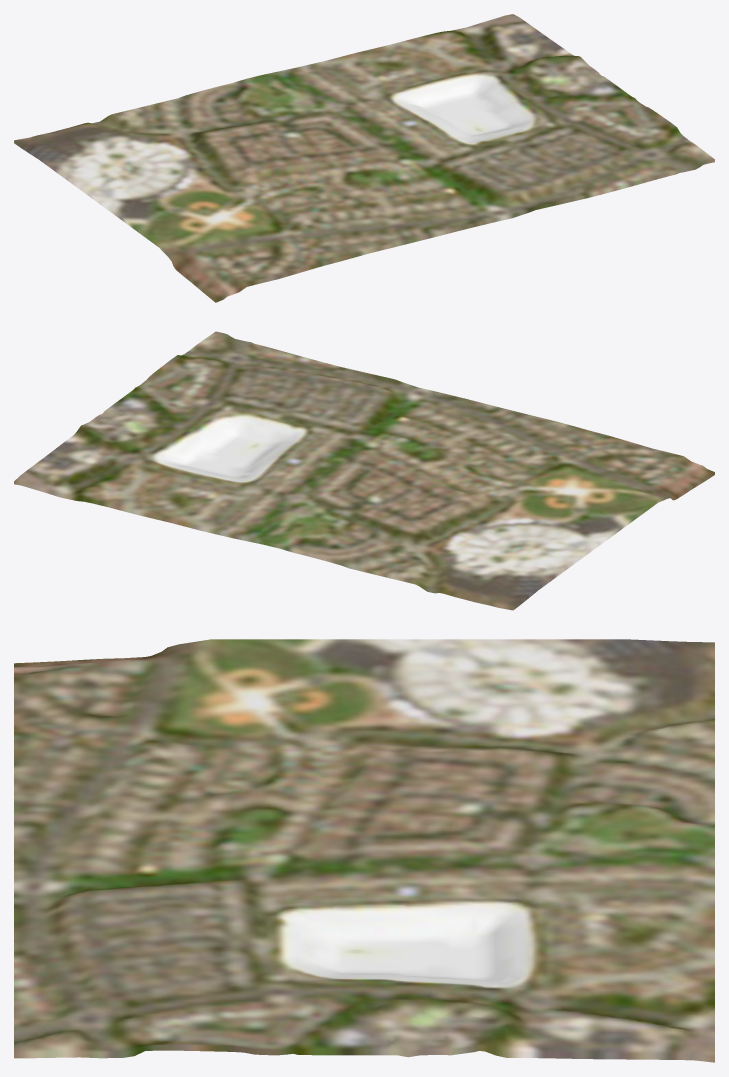
Rendered from terrain_r4_c4_lod1.glb.
The picture shows the model from 3 angles, top to bottom: view 1: azimuth 30°, elevation 25°; view 2: azimuth 150°, elevation 25°; view 3: azimuth 270°, elevation 25°; orthographic projection. The views are drawn at different scales.
Parts seen in each view (by area): view 1: terrain_r4_c4_lod1; view 2: terrain_r4_c4_lod1; view 3: terrain_r4_c4_lod1.
Part boxes in pixels (x1=…): terrain_r4_c4_lod1: x1=14, y1=14, x2=714, y2=302; terrain_r4_c4_lod1: x1=14, y1=331, x2=714, y2=610; terrain_r4_c4_lod1: x1=14, y1=639, x2=714, y2=1062.
Bounding box in the file's own units: 1125 × 56.58 × 787.
Materials: 1 (1 with a texture image).
